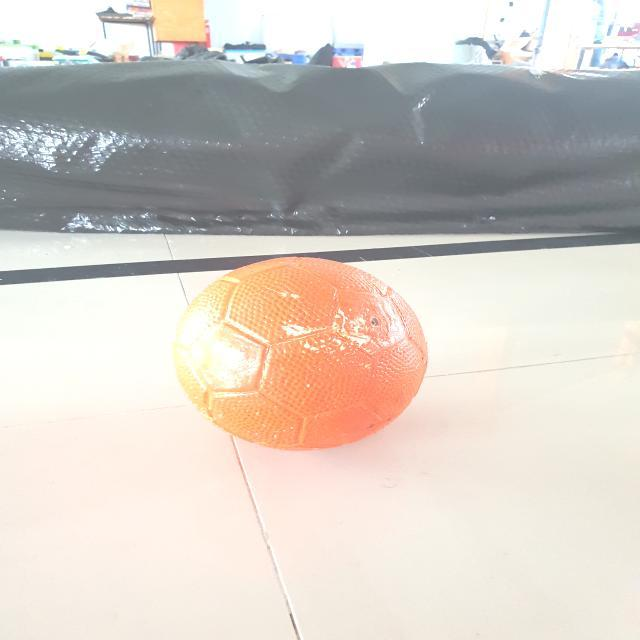bola: (158, 235, 438, 462)
